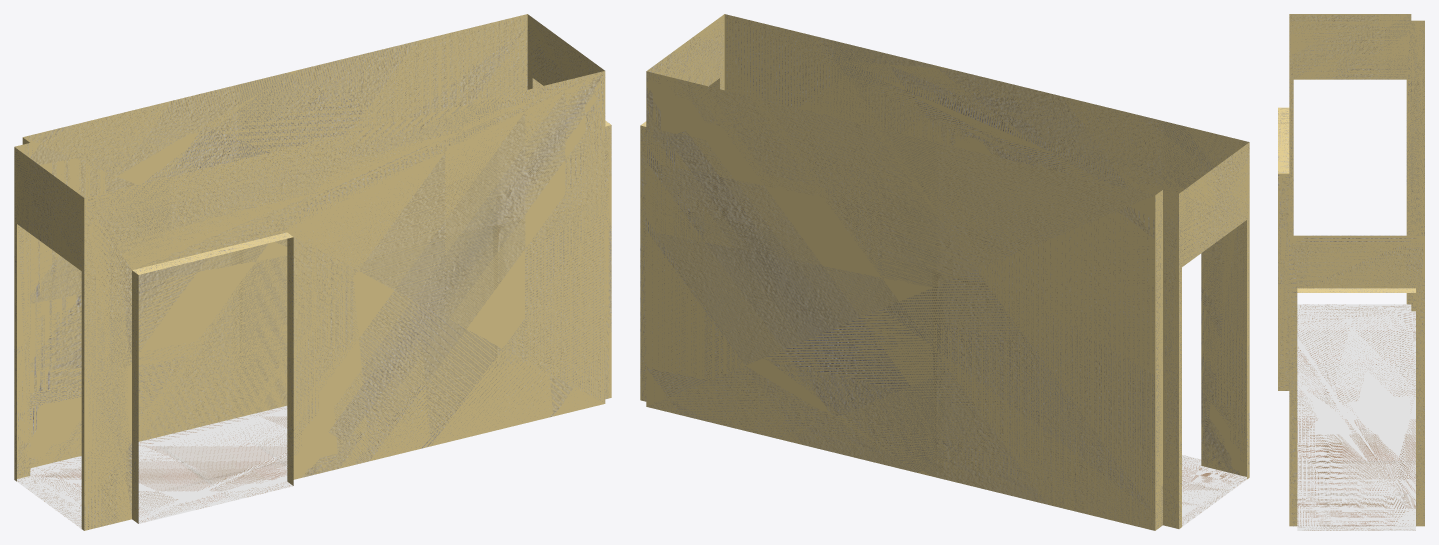
The model's file is COM007.obj.
3 renders of one model, left to right at view 1: azimuth 30°, elevation 25°; view 2: azimuth 150°, elevation 25°; view 3: azimuth 270°, elevation 25°, orthographic. The views are drawn at different scales.
Visible parts, largest first — view 1: Mesh1 COM007 Model; view 2: Mesh1 COM007 Model; view 3: Mesh1 COM007 Model.
Part boxes in pixels (<box>): Mesh1 COM007 Model: <box>14,14,611,530</box>; Mesh1 COM007 Model: <box>640,14,1249,530</box>; Mesh1 COM007 Model: <box>1278,14,1424,530</box>.
Bounding box in the file's own units: 4.97 × 2.98 × 1.36.
Materials: 4 (2 with a texture image).
